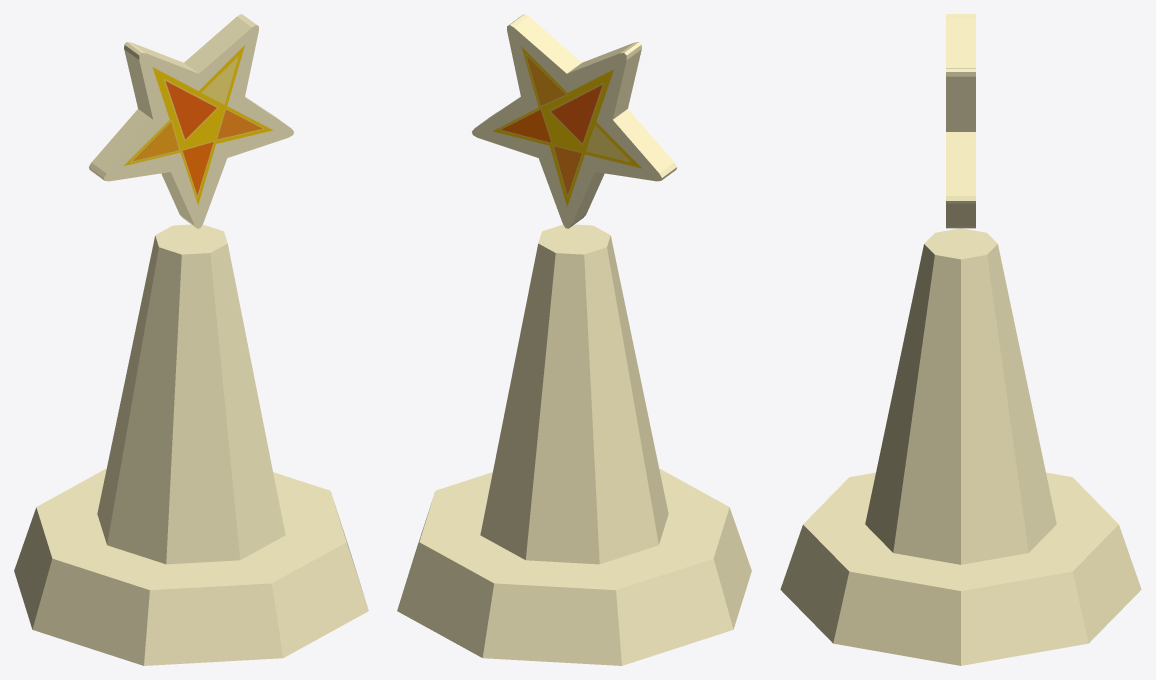
File: Fame_Token.fbx
3 views of the same model, side by side, from view 1: azimuth 30°, elevation 25°; view 2: azimuth 150°, elevation 25°; view 3: azimuth 270°, elevation 25° (orthographic).
Parts seen in each view (by area): view 1: Cylinder, Cylinder.001; view 2: Cylinder, Cylinder.001; view 3: Cylinder, Cylinder.001.
Part boxes in pixels (box(x1,y1,x2,y2)): Cylinder: box(14, 224, 368, 665); Cylinder.001: box(89, 14, 293, 228); Cylinder: box(397, 224, 751, 665); Cylinder.001: box(472, 14, 676, 228); Cylinder: box(780, 228, 1141, 665); Cylinder.001: box(946, 14, 975, 228).
Size of the model in its own units: 151 by 253 by 151.
Materials: 2 (1 with a texture image).
